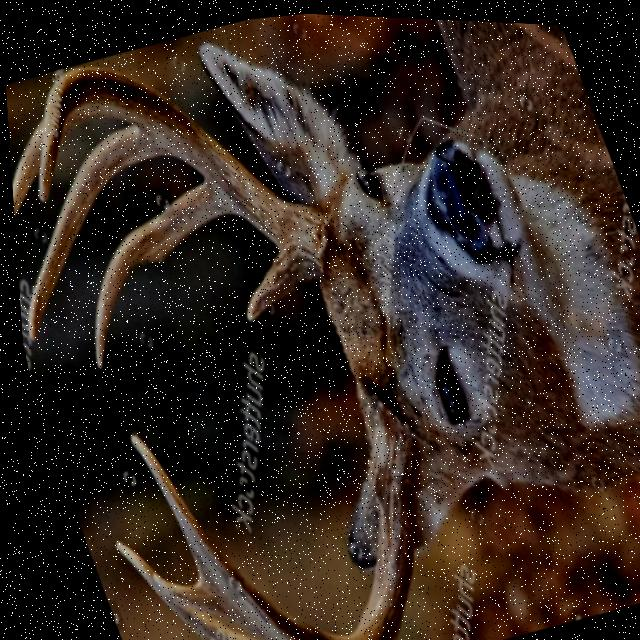E1: (144, 561, 232, 622)
L-F: (124, 379, 426, 640)
R-F: (36, 65, 327, 277)
R-G1: (242, 240, 306, 319)
R-G2: (90, 178, 238, 368)
R-G3: (23, 123, 172, 341)
